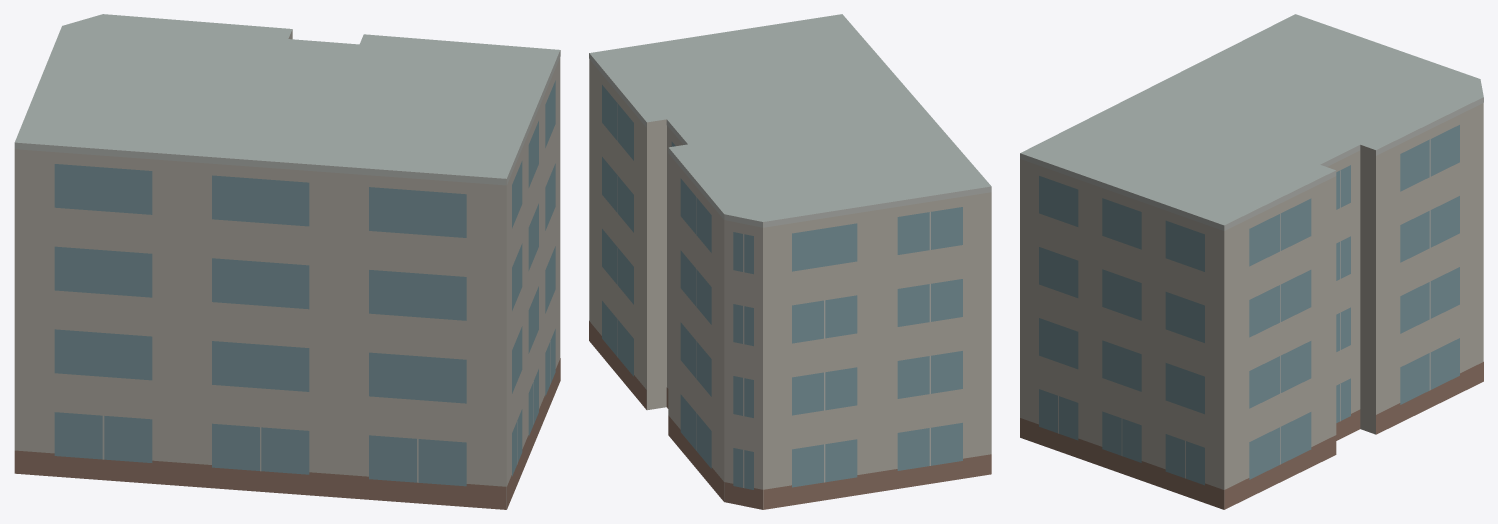
Rendered from survey-upis-32926802.glb.
The picture shows the model from 3 angles, left to right: view 1: azimuth 30°, elevation 25°; view 2: azimuth 150°, elevation 25°; view 3: azimuth 270°, elevation 25°; orthographic projection. The views are drawn at different scales.
Parts seen in each view (by area): view 1: survey-upis-32926802.tmp; view 2: survey-upis-32926802.tmp; view 3: survey-upis-32926802.tmp.
Part boxes in pixels (x1,y1,x2,y2): survey-upis-32926802.tmp: (14, 14, 560, 509); survey-upis-32926802.tmp: (589, 14, 991, 509); survey-upis-32926802.tmp: (1020, 14, 1483, 509).
Size of the model in its own units: 19.46 by 12.2 by 18.04.
